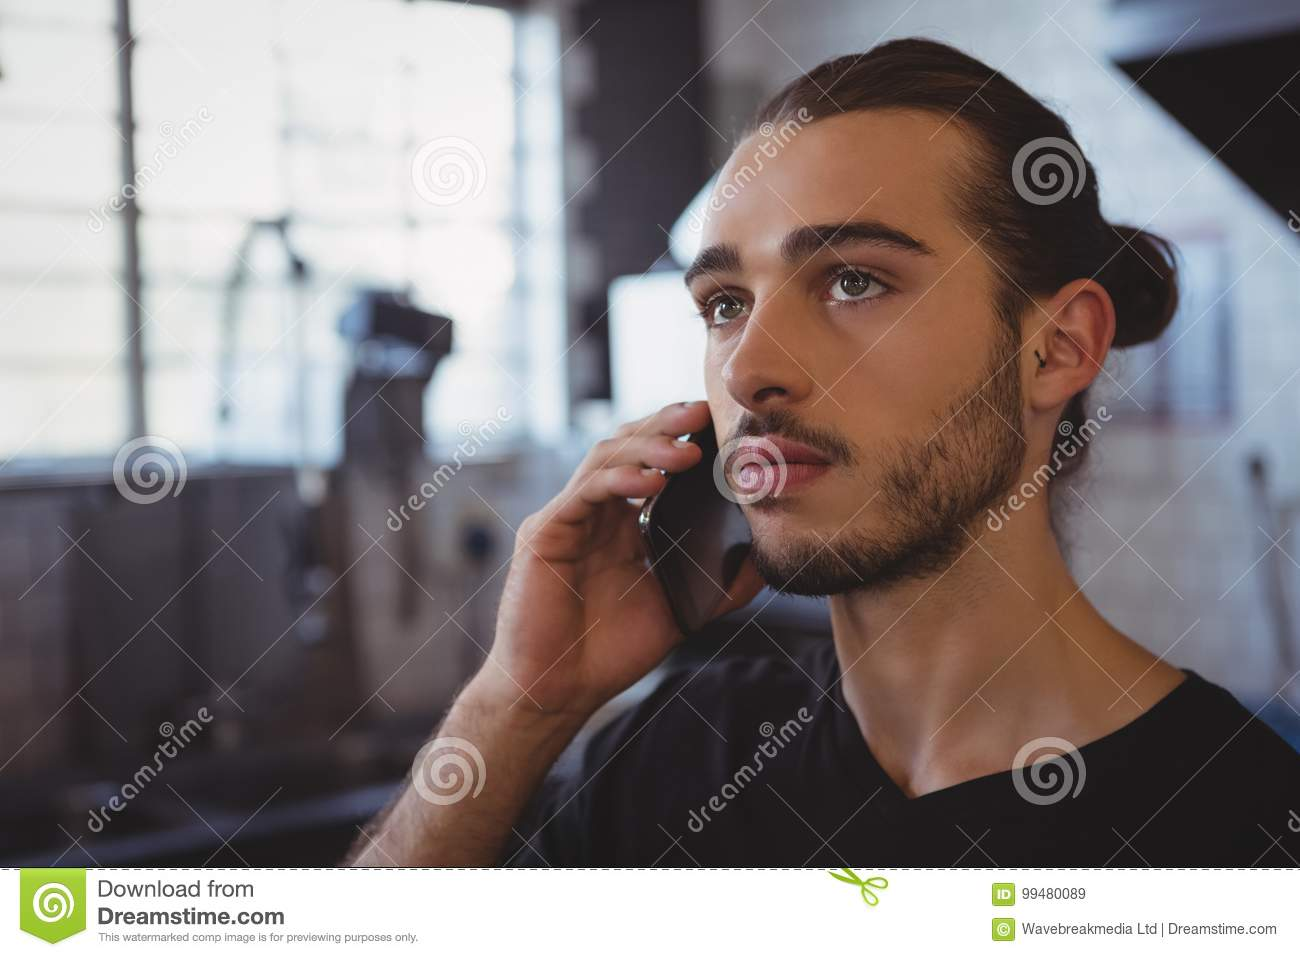phone: (637, 397, 753, 645)
talk: (480, 217, 959, 715)
